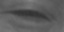LeftEyeFatigue: (1, 2, 61, 29)
